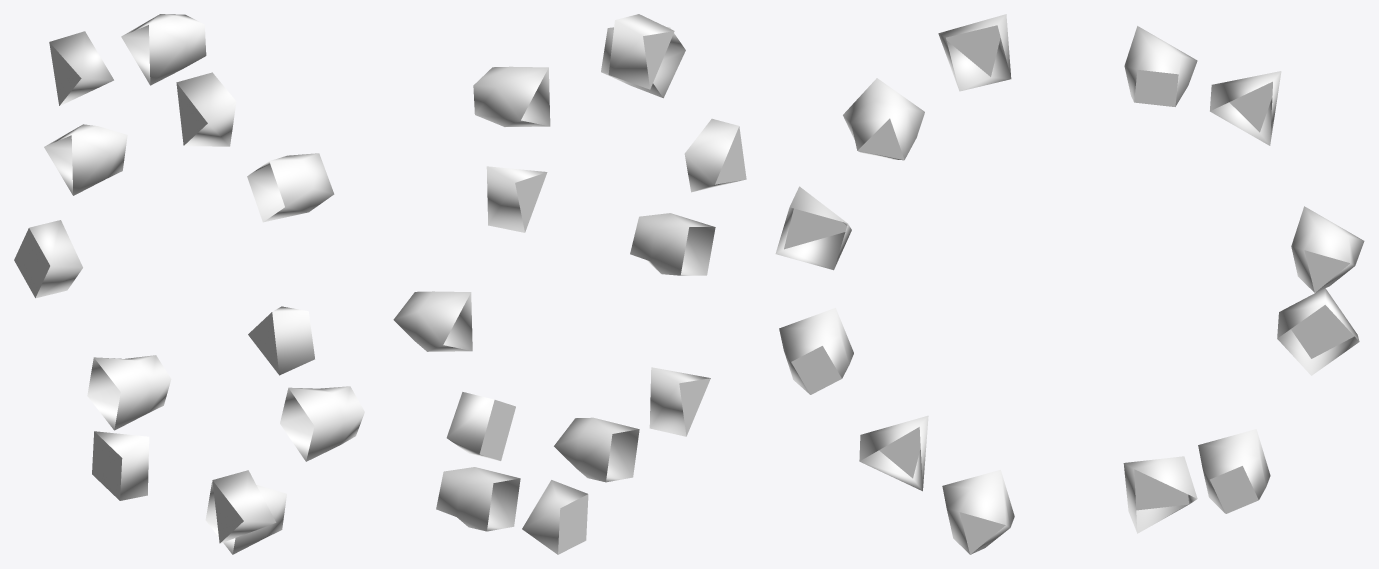
3 renders of one model, left to right at view 1: azimuth 30°, elevation 25°; view 2: azimuth 150°, elevation 25°; view 3: azimuth 270°, elevation 25°, orthographic. The views are drawn at different scales.
Size of the model in its own units: 0.0557 by 0.2814 by 0.2953.
1 material, 1 textured.
